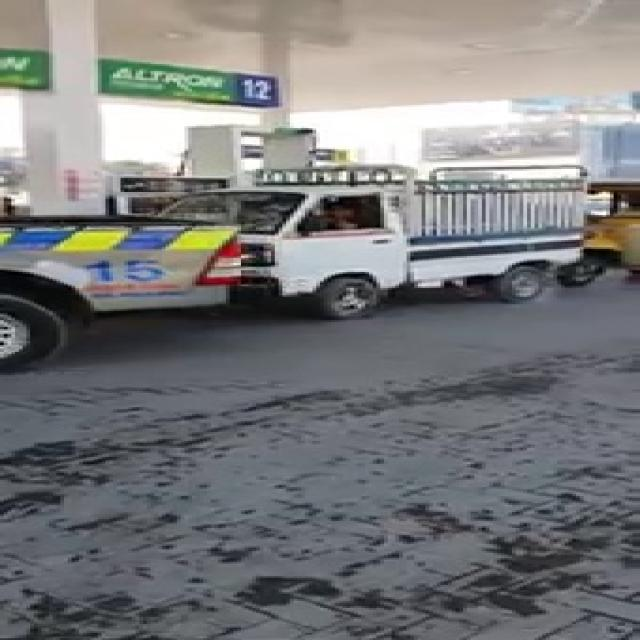police: (0, 185, 305, 373)
